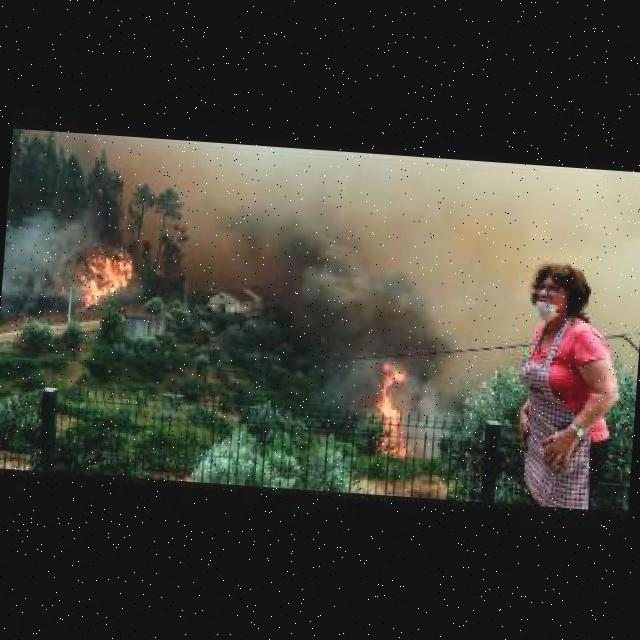Fire: (54, 238, 157, 315), (363, 358, 432, 458)
